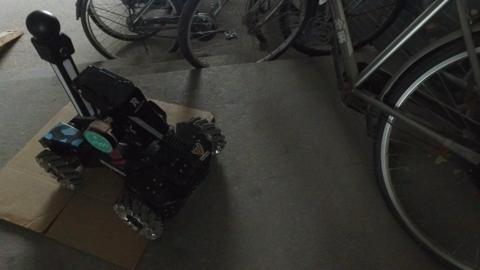chariot: (23, 9, 226, 244)
